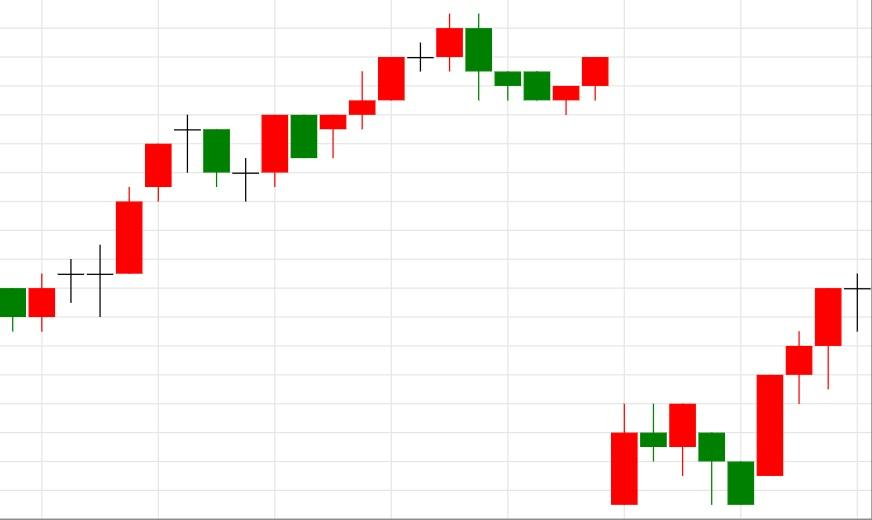bearish_engulfing_fall: (231, 13, 493, 202)
evening_star_fall: (0, 114, 231, 332)
three_white_soldiers_rise: (668, 288, 843, 506)
